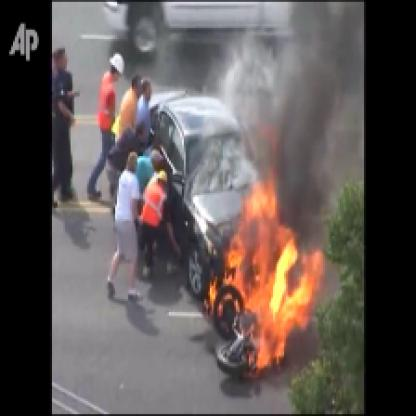Fire: (201, 169, 321, 379)
Smoke: (271, 2, 359, 213)
